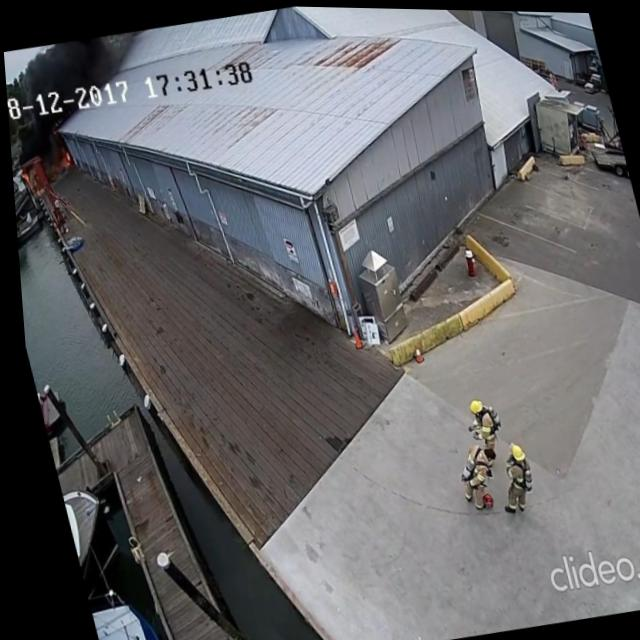fire: (52, 144, 72, 171), (17, 170, 33, 196)
